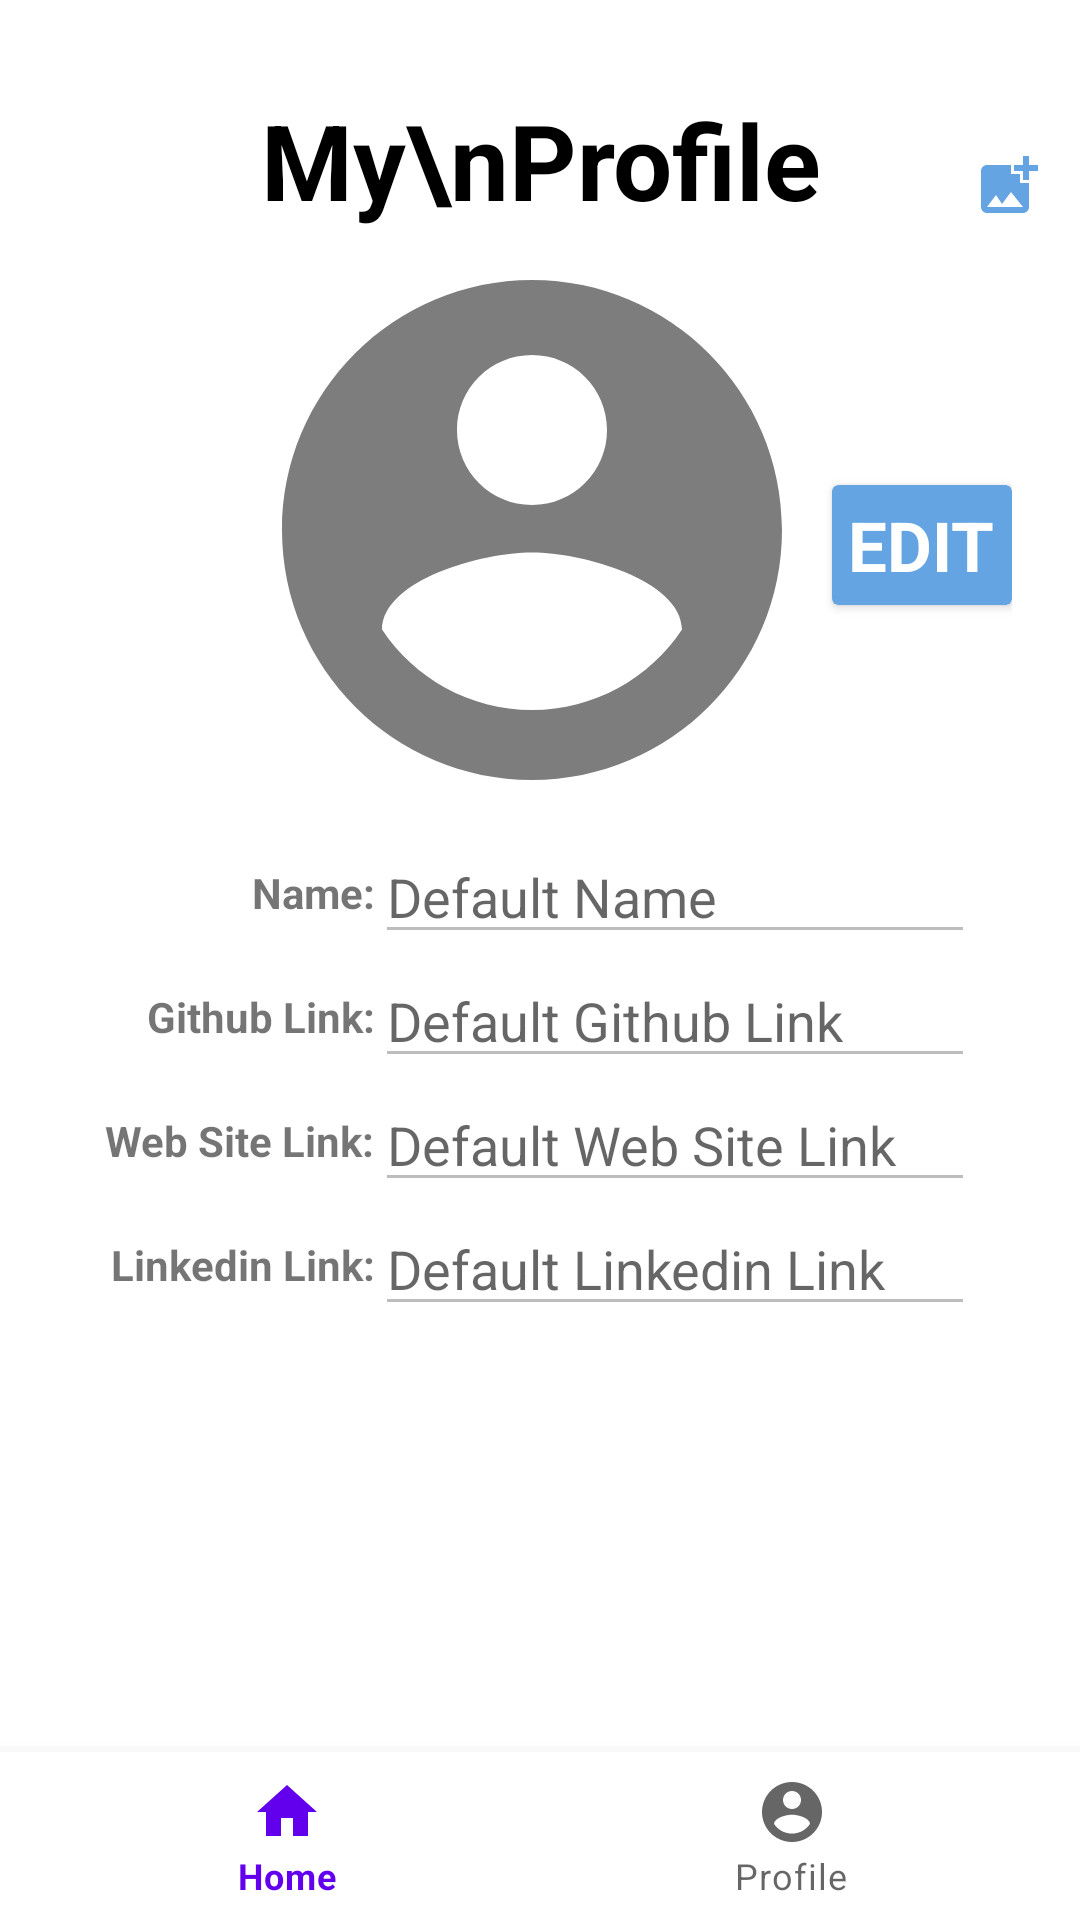

Icon click points for this 1080×1920 phone screenshot, format (x,y):
add photo alternate: (1009,184)
